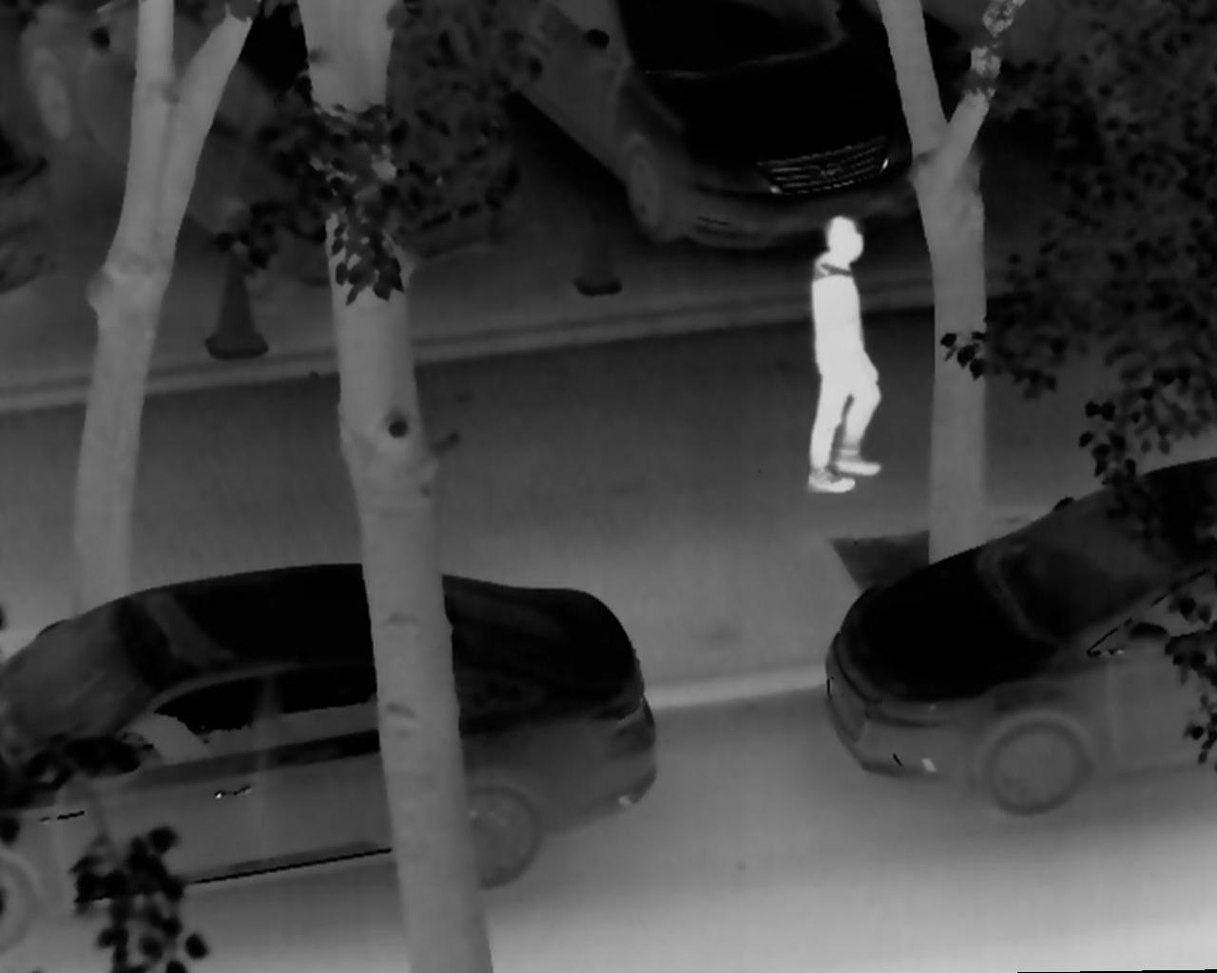person: (790, 213, 885, 500)
